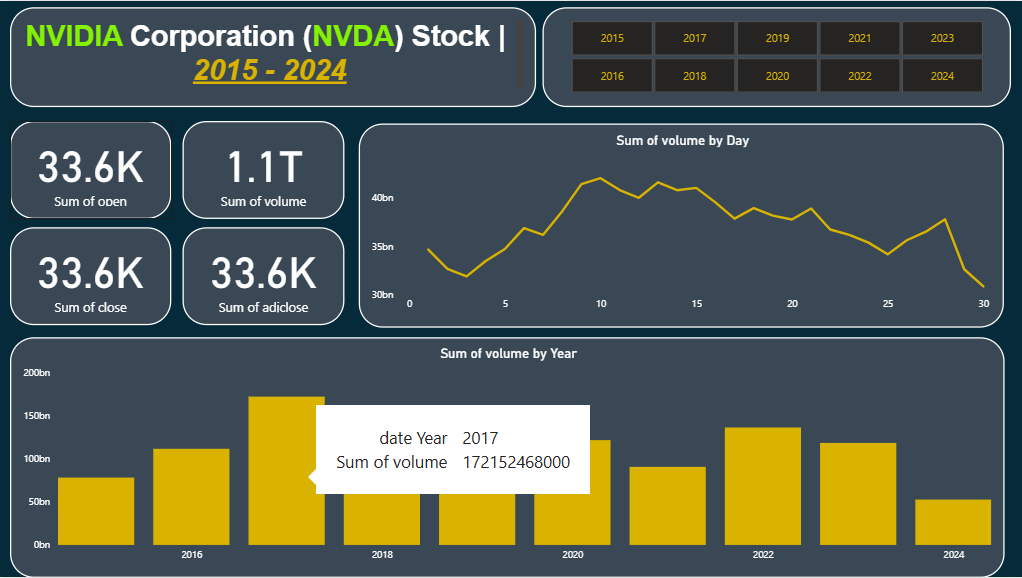

The page's visual inventory and layout, read from the dashboard file:
{"tool":"powerbi","page":{"name":"Page 1","canvas":[1280,720],"ordinal":0},"visuals":[{"type":"slicer","fields":{"Values":["nvidia_stock_2015_to_2024.date.Variation.Date Hierarchy.Year"]},"box":[678.5,8.6,585.3,125.2],"z":0},{"type":"card","fields":{"Values":["Sum(nvidia_stock_2015_to_2024.volume)"]},"box":[228.2,149.7,202.5,122.7],"z":1000},{"type":"columnChart","fields":{"Category":["nvidia_stock_2015_to_2024.date.Variation.Date Hierarchy.Year"],"Y":["Sum(nvidia_stock_2015_to_2024.volume)"]},"box":[12.3,419.6,1243,300.6],"z":2000},{"type":"card","fields":{"Values":["Sum(nvidia_stock_2015_to_2024.close)"]},"box":[12.3,282.2,201.2,122.7],"z":3000},{"type":"card","fields":{"Values":["Sum(nvidia_stock_2015_to_2024.open)"]},"box":[12.3,149.7,201.2,122.7],"z":4000},{"type":"textbox","box":[12.3,8.6,657.7,125.2],"z":5000},{"type":"card","fields":{"Values":["Sum(nvidia_stock_2015_to_2024.adjclose)"]},"box":[228.2,282.2,202.5,122.7],"z":6000},{"type":"lineChart","fields":{"Y":["Sum(nvidia_stock_2015_to_2024.volume)"],"Category":["nvidia_stock_2015_to_2024.date.Variation.Date Hierarchy.Day"]},"box":[447.9,153.8,806.7,255],"z":7000}]}

Visuals, with their boxes in screenshot pixels (x1, y1, x2, y2), scaled from the page's 1280x720 canvas onto the 1022x578 screenshot:
slicer - nvidia_stock_2015_to_2024.date.Variation.Date Hierarchy.Year: Rect(542, 7, 1009, 107)
card - Sum(nvidia_stock_2015_to_2024.volume): Rect(182, 120, 344, 219)
columnChart - nvidia_stock_2015_to_2024.date.Variation.Date Hierarchy.Year x Sum(nvidia_stock_2015_to_2024.volume): Rect(10, 337, 1002, 577)
card - Sum(nvidia_stock_2015_to_2024.close): Rect(10, 227, 170, 325)
card - Sum(nvidia_stock_2015_to_2024.open): Rect(10, 120, 170, 219)
textbox: Rect(10, 7, 535, 107)
card - Sum(nvidia_stock_2015_to_2024.adjclose): Rect(182, 227, 344, 325)
lineChart - Sum(nvidia_stock_2015_to_2024.volume) x nvidia_stock_2015_to_2024.date.Variation.Date Hierarchy.Day: Rect(358, 123, 1002, 328)
